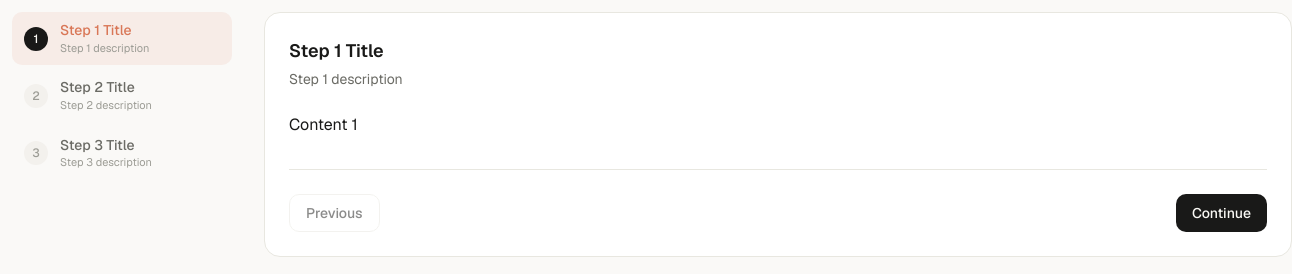
it: FormWizard › clicking a step in the sidebar jumps directly to it
The image size is (1292, 274).
Click the button "3 Step 3 Title Step 3 description" at (122, 153), box [12,126,232,180]
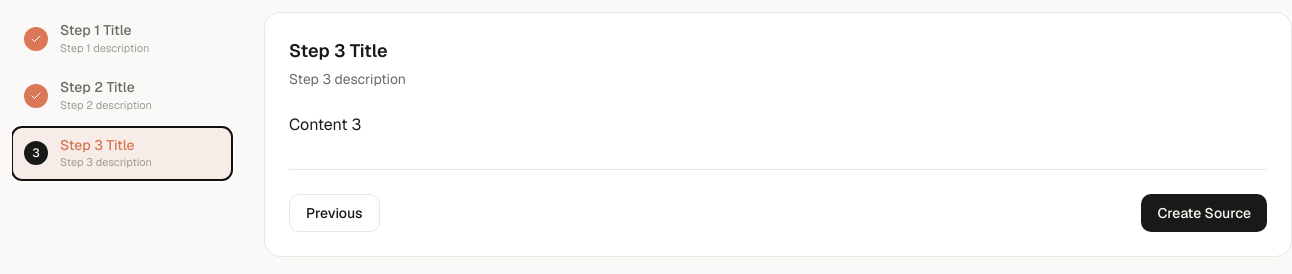
Check: the heading "Step 3 Title" is shown, box [289,39,388,62]
Check: the text "Content 3" is shown, box [289,114,361,135]
